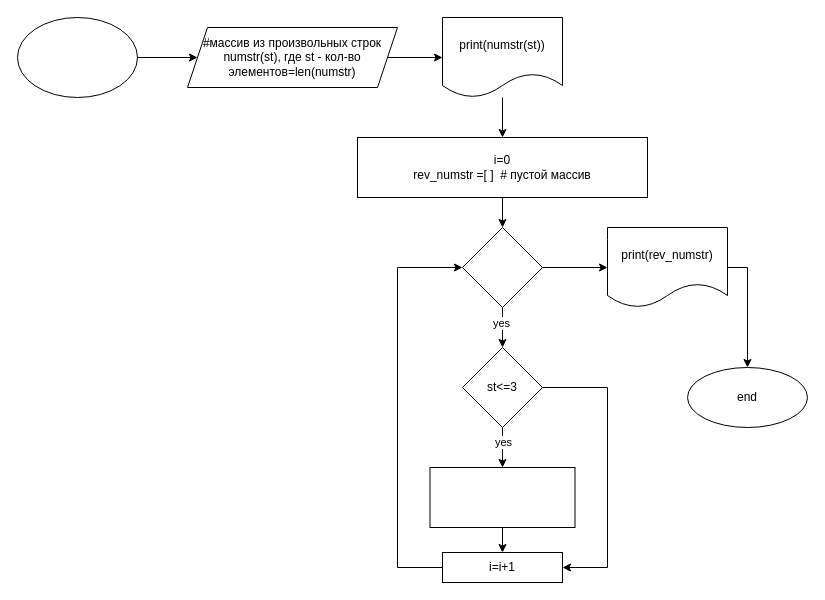
Some shapes in this 825 by 600 pixel diagram are drawn without their labels. The centre of each missing label's shape, as x and y in pixels:
"i<st" belongs at (x=502, y=267).
"start" belongs at (x=77, y=57).
"добавили значение st в массив rev_numstr" belongs at (x=502, y=497).
